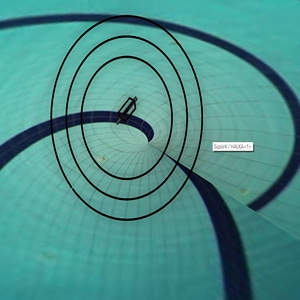circle: (40, 3, 211, 236)
submarine: (109, 87, 152, 137)
